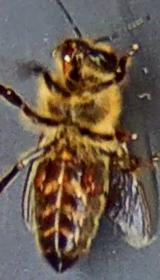varroa_mite: (67, 158, 108, 199), (17, 151, 53, 196)
